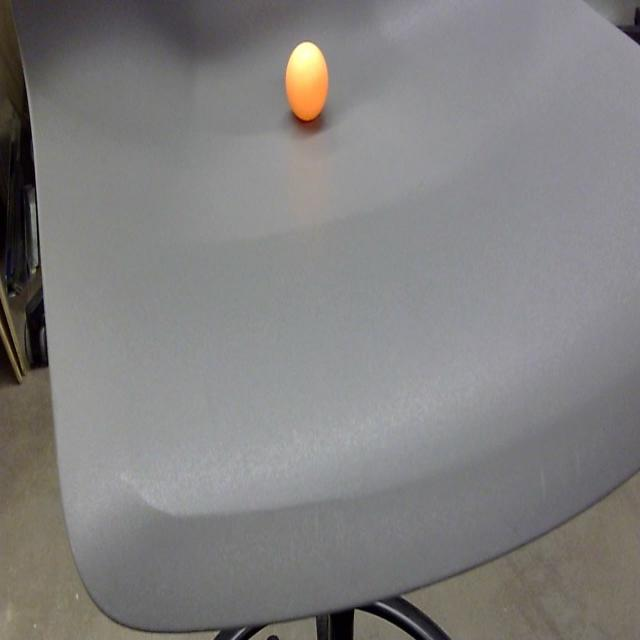ball: (283, 36, 332, 128)
